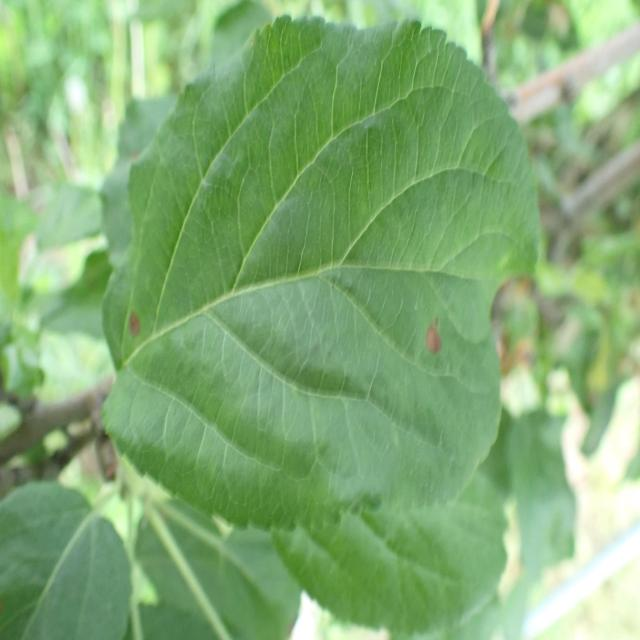Black Rot: (422, 311, 454, 369), (125, 300, 151, 354)
